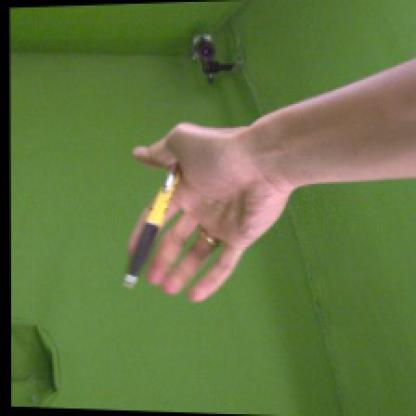Hand: (124, 119, 292, 305)
